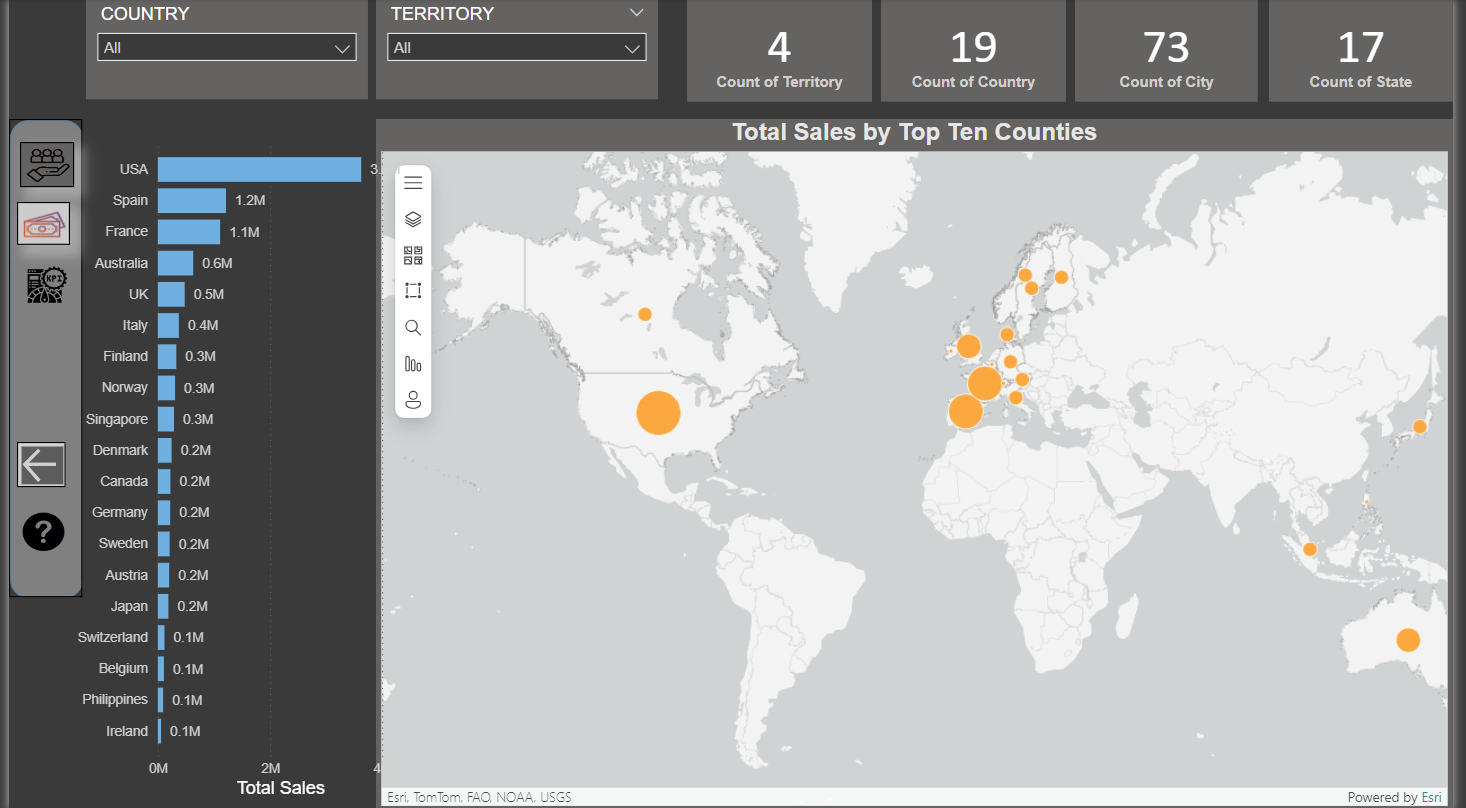

The page's visual inventory and layout, read from the dashboard file:
{"tool":"powerbi","page":{"name":"MAP","canvas":[1280,720],"ordinal":3},"visuals":[{"type":"esriVisual","title":"Total Sales by Top Ten Counties ","fields":{"Location":["DimCountry.COUNTRY"],"Size":["Sum(Sales_Fact_table.SALES)"]},"box":[325,106.2,954.6,613.5],"z":0},{"type":"card","fields":{"Values":["Count(DimCountry.COUNTRY)"]},"box":[773.3,0,164,91],"z":1000},{"type":"card","fields":{"Values":["Count(DimCountry.TERRITORY)"]},"box":[600.9,0,164,91],"z":2000},{"type":"shape","box":[0,106.5,64.6,423.7],"z":3000},{"type":"image","box":[7.2,450.1,46.7,44.3],"z":4000},{"type":"image","box":[9.6,126.9,47.9,39.5],"z":5000},{"type":"image","box":[7.2,180.2,46.7,38.3],"z":6000},{"type":"card","fields":{"Values":["Count(DimCustomer.STATE)"]},"box":[1116.8,0,162.8,91],"z":7000},{"type":"card","fields":{"Values":["Count(DimCustomer.CITY)"]},"box":[945.7,0,162.4,91.3],"z":8000},{"type":"actionButton","box":[7.2,392.6,43.1,39.5],"z":9000},{"type":"image","box":[12,232.2,45.5,41.9],"z":10000},{"type":"clusteredBarChart","title":"Total Sales By Country","fields":{"Category":["DimCountry.COUNTRY"],"Y":["Sum(Sales_Fact_table.SALES)"]},"box":[55.1,116.1,304,597.3],"z":11000},{"type":"slicer","fields":{"Values":["DimCountry.COUNTRY"]},"box":[68.2,0,249.9,89.5],"z":12000},{"type":"slicer","fields":{"Values":["DimCountry.TERRITORY"]},"box":[325.2,0,249.9,89.5],"z":13000}]}

Visuals, with their boxes on the page's 1280x720 design canvas (x1, y1, x2, y2). These are canvas units, not pixel positions in the 1466x808 screenshot, which may show the page scaled, cropped or inside an application window:
"Total Sales by Top Ten Counties " esriVisual: x1=325 y1=106 x2=1280 y2=720
card - Count(DimCountry.COUNTRY): x1=773 y1=0 x2=937 y2=91
card - Count(DimCountry.TERRITORY): x1=601 y1=0 x2=765 y2=91
shape: x1=0 y1=106 x2=65 y2=530
image: x1=7 y1=450 x2=54 y2=494
image: x1=10 y1=127 x2=58 y2=166
image: x1=7 y1=180 x2=54 y2=218
card - Count(DimCustomer.STATE): x1=1117 y1=0 x2=1280 y2=91
card - Count(DimCustomer.CITY): x1=946 y1=0 x2=1108 y2=91
actionButton: x1=7 y1=393 x2=50 y2=432
image: x1=12 y1=232 x2=58 y2=274
"Total Sales By Country" clusteredBarChart: x1=55 y1=116 x2=359 y2=713
slicer - DimCountry.COUNTRY: x1=68 y1=0 x2=318 y2=90
slicer - DimCountry.TERRITORY: x1=325 y1=0 x2=575 y2=90
